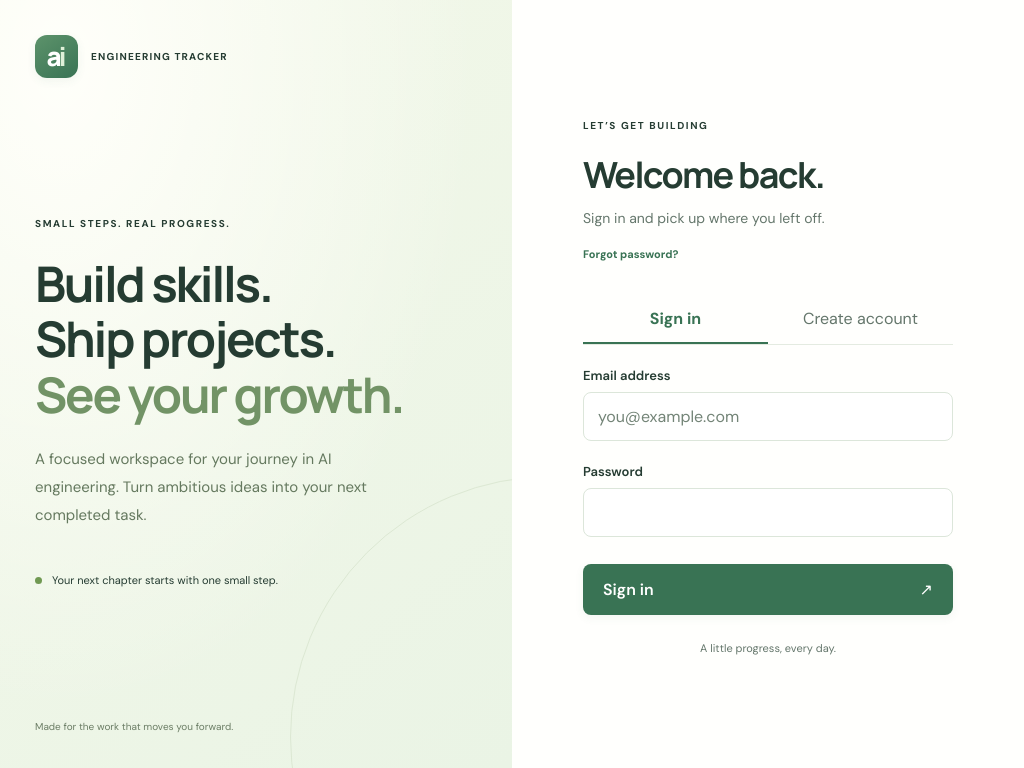
Test: keeps a failed login on the sign-in screen
Type "test@example.com" into the field labelled "Email address" at [768, 416], box [583,392,953,441]
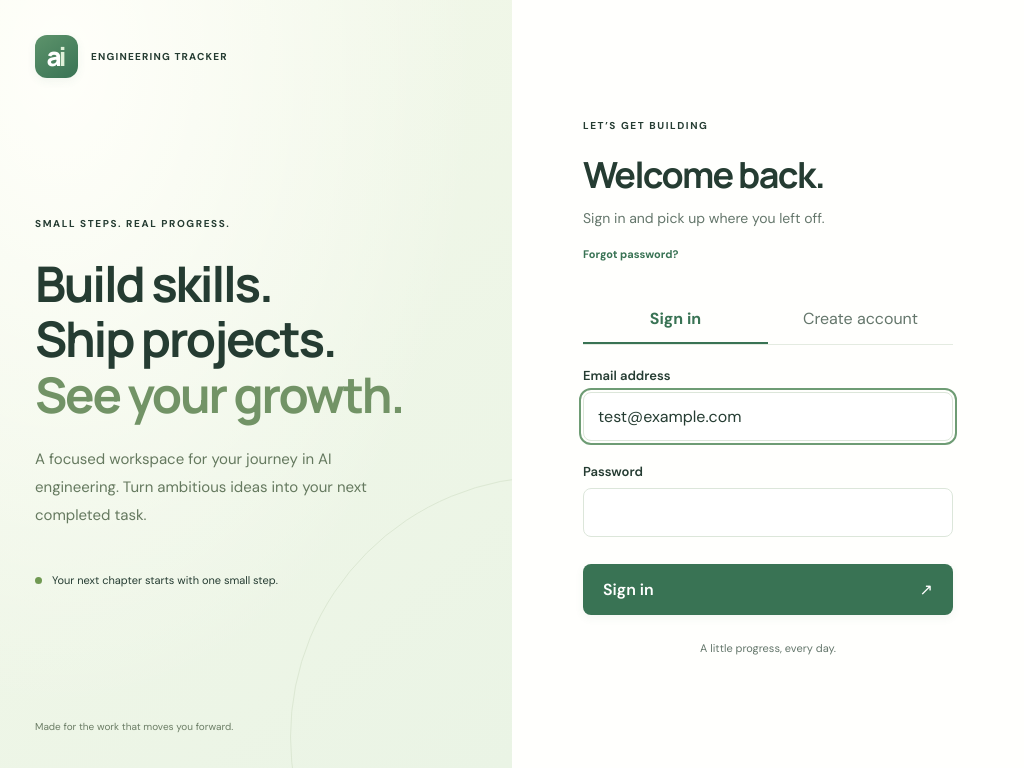
Type "test-only-long-passphrase" into the password field labelled "Password" at [768, 512], box [583,488,953,537]
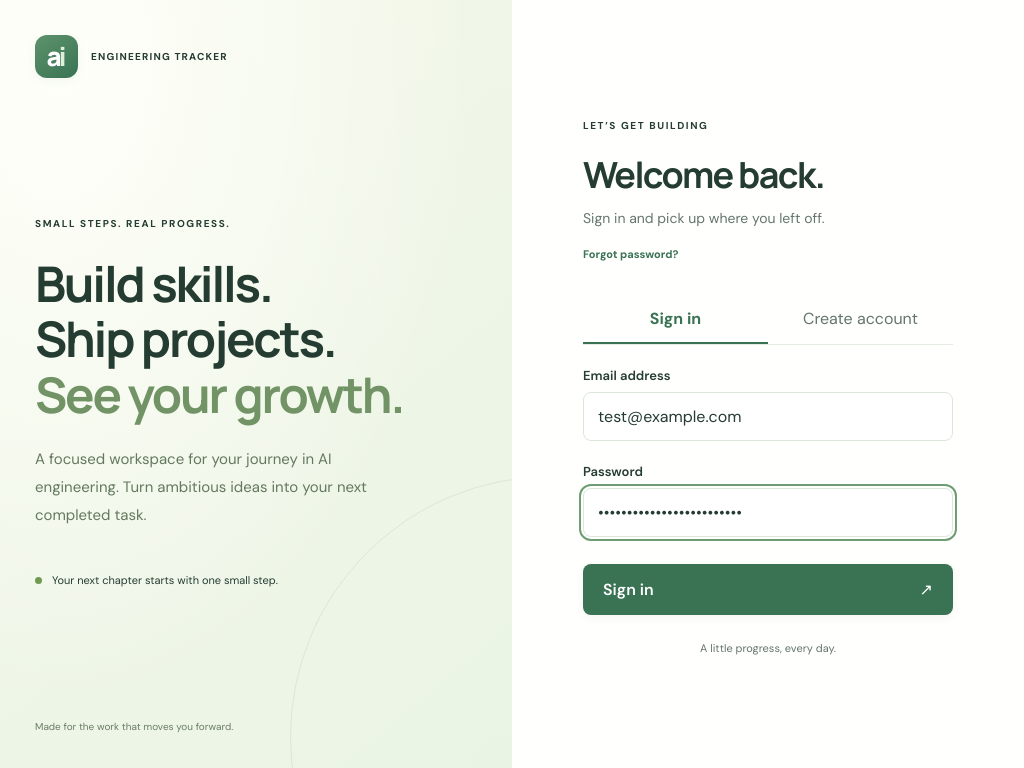
Click the button "Sign in ↗" at [628, 590], box [583,564,953,615]
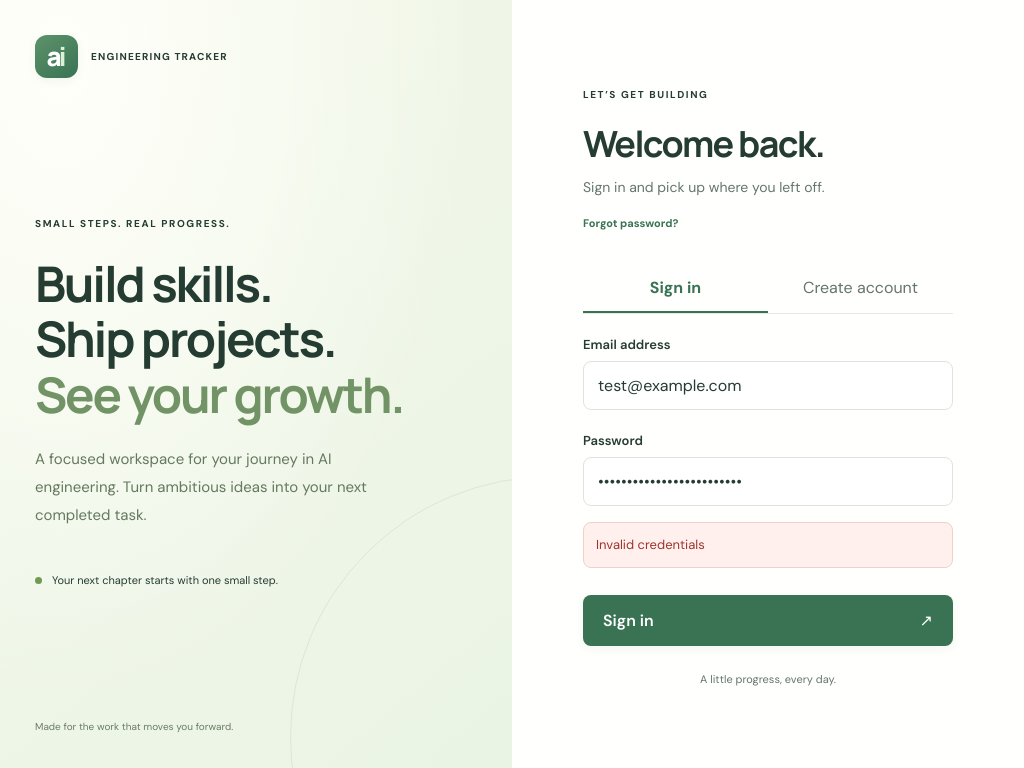
Now the message reads "Invalid credentials", box [596,536,705,553]
